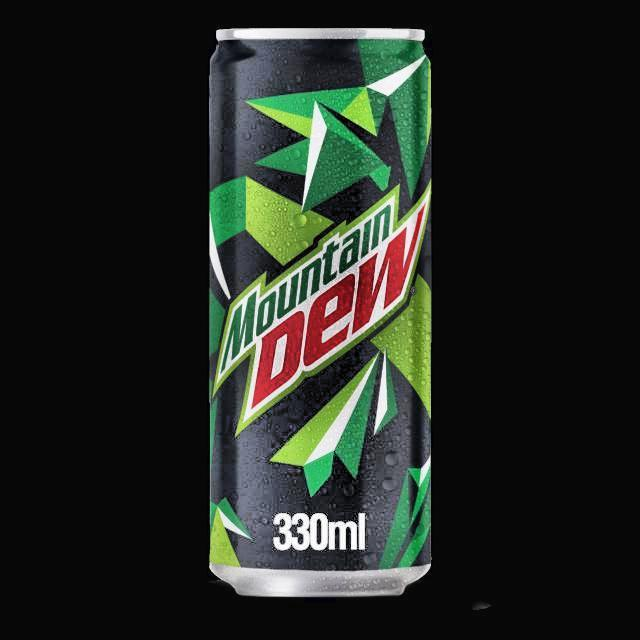metal: (209, 28, 433, 602)
